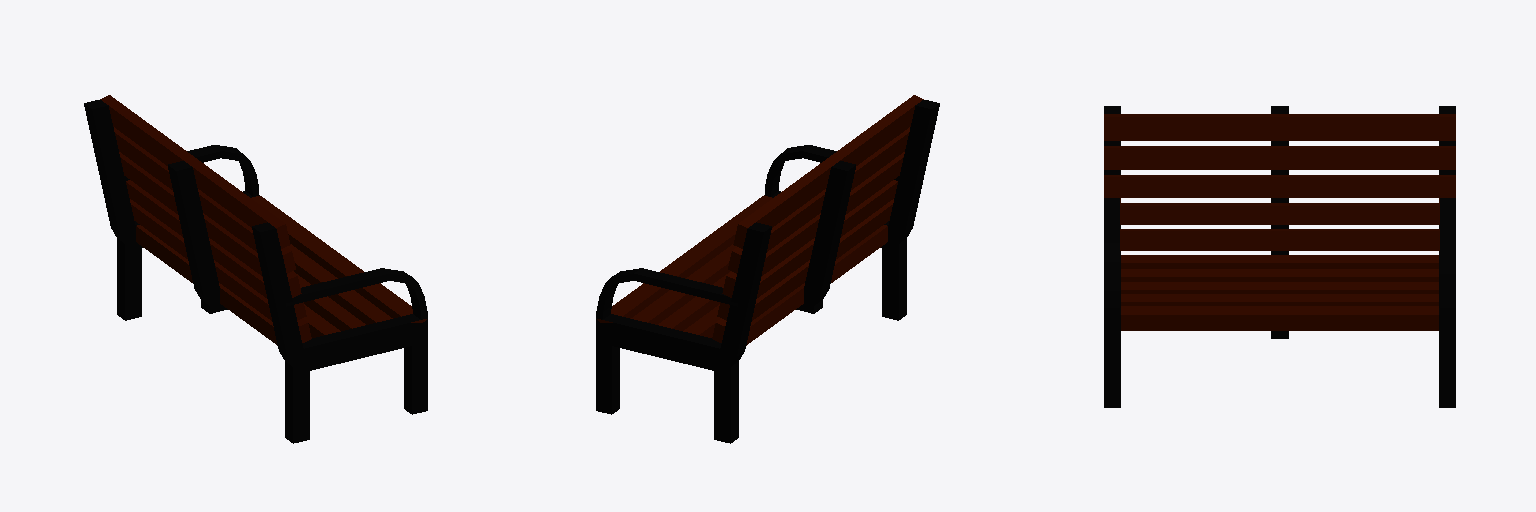
File: park_bench.obj
The picture shows the model from 3 angles: view 1: azimuth 30°, elevation 25°; view 2: azimuth 150°, elevation 25°; view 3: azimuth 270°, elevation 25°; orthographic projection.
Parts seen in each view (by area): view 1: Cube; view 2: Cube; view 3: Cube.
Part boxes in pixels (x1,y1,x2,y2): Cube: (84, 95, 427, 443); Cube: (596, 95, 939, 443); Cube: (1104, 106, 1455, 407).
Size of the model in its own units: 0.7525 by 0.9479 by 1.37.